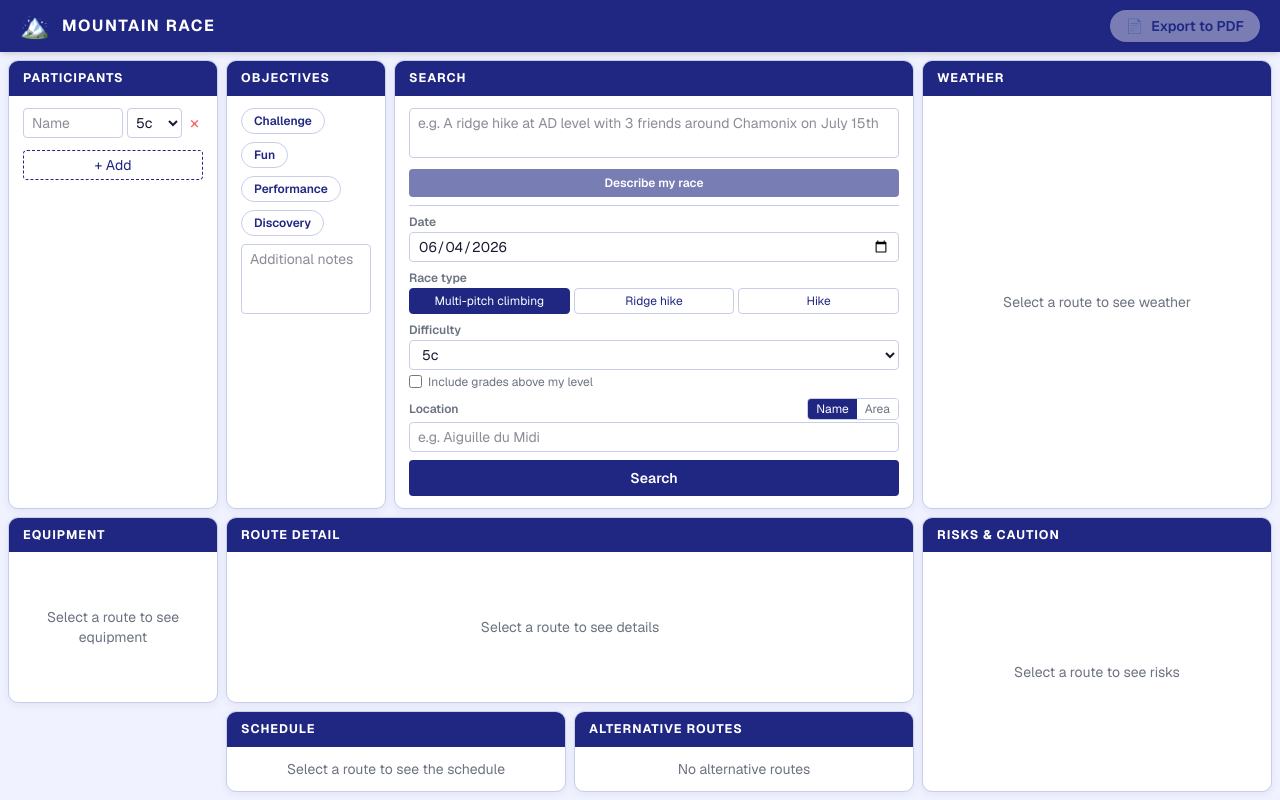
Scenario: User flow: search and select a route › shows no results message when search returns empty list
Click the button "Search". click: [654, 478]
box: [409,460,899,496]
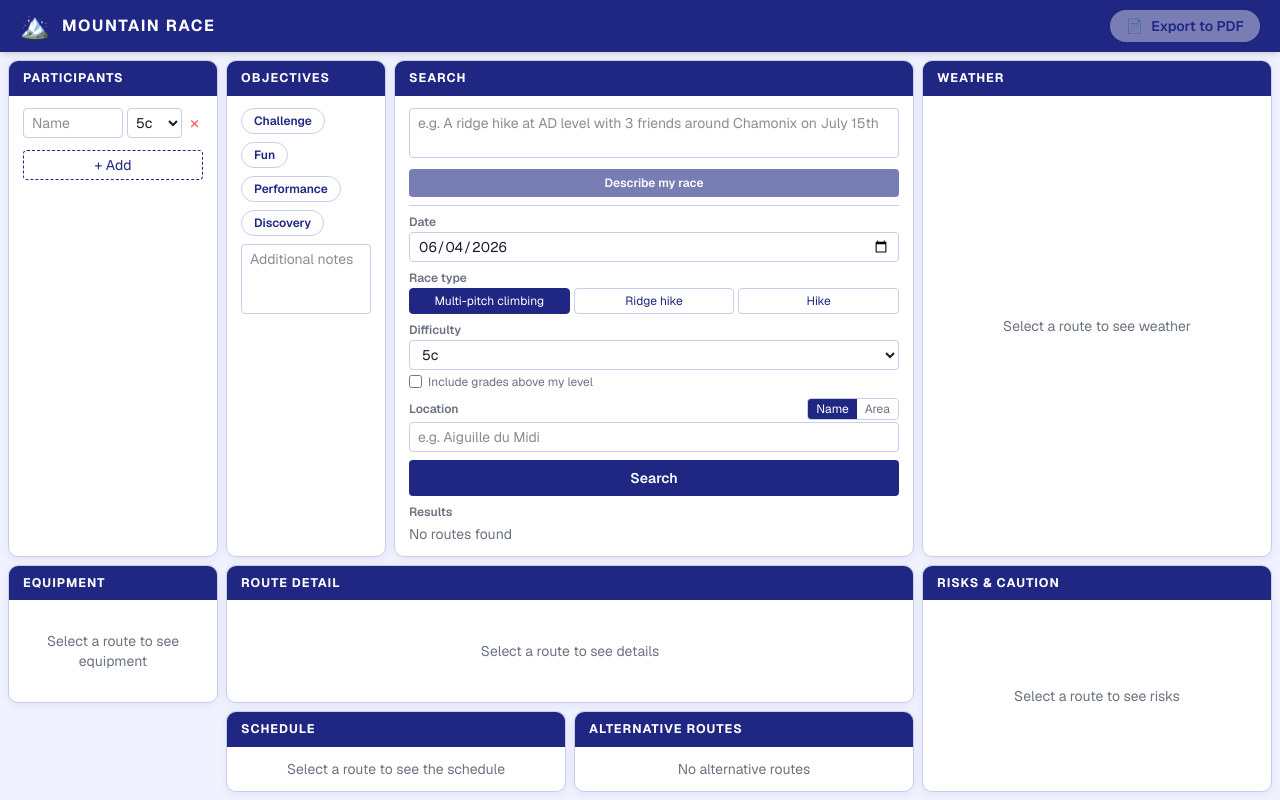
Expected: the text "No routes found" is shown, [409,525,512,543]
